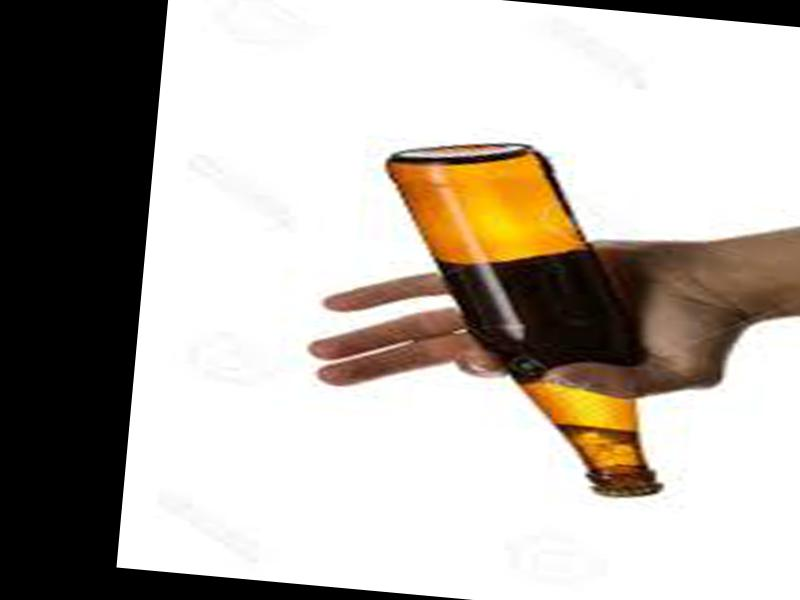Beer: (367, 134, 685, 493)
